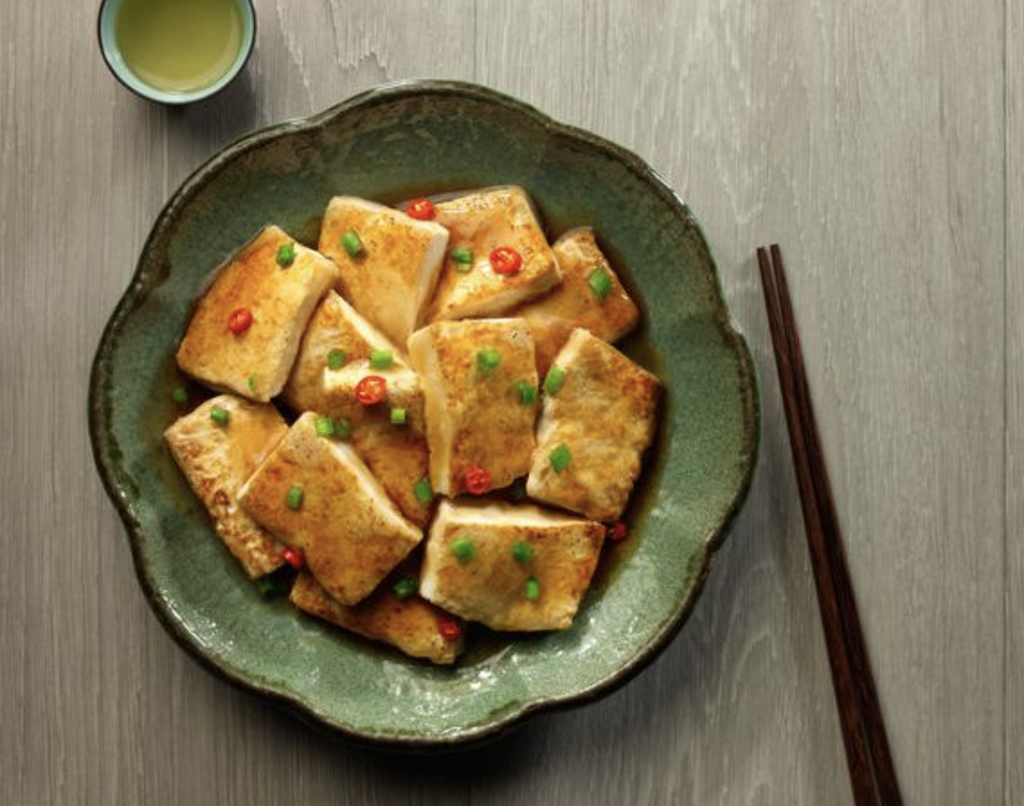Tahu: (405, 310, 556, 497), (422, 497, 642, 620), (517, 362, 682, 515), (520, 323, 648, 509), (272, 429, 424, 582), (191, 240, 328, 408), (185, 391, 297, 579), (328, 202, 438, 345), (437, 187, 557, 317)
